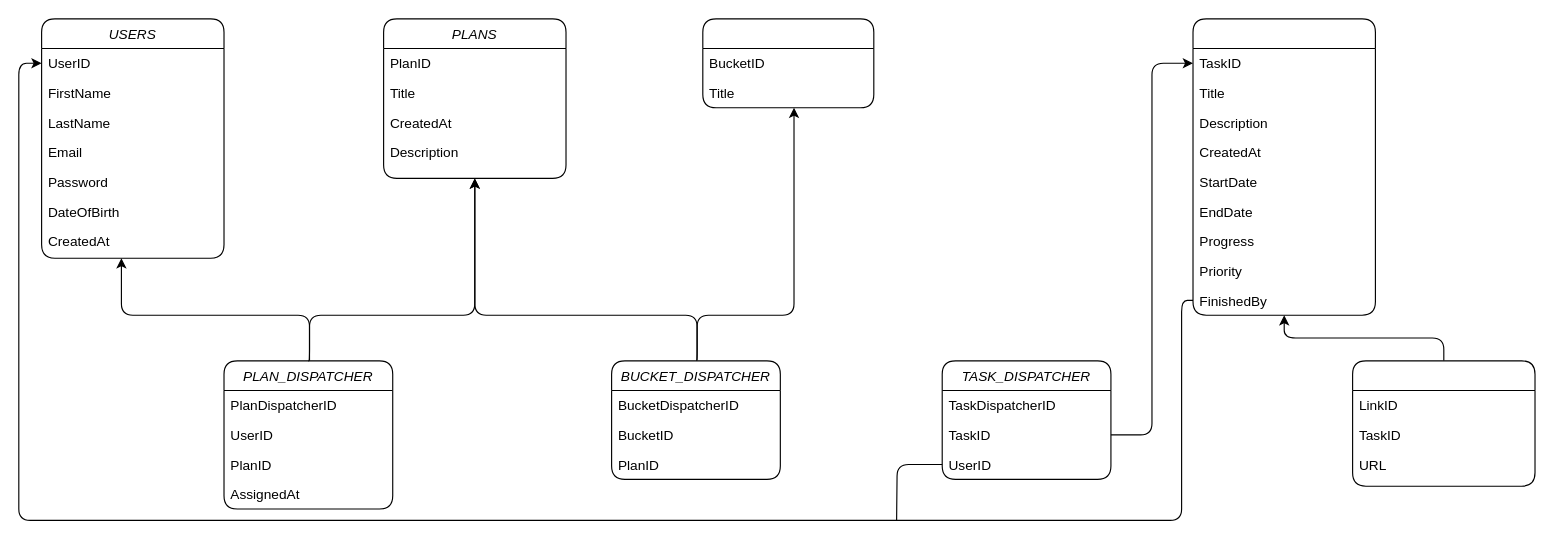
The diagram is 1554 pixels wide and 539 high, and some of its shapes have lost their labels. The box of each missing label's shape, as (x1, y1, x2, y2) in pixels:
BUCKETS: (702, 18, 874, 108)
LINKS: (1351, 360, 1535, 486)
TASKS: (1192, 18, 1375, 315)
